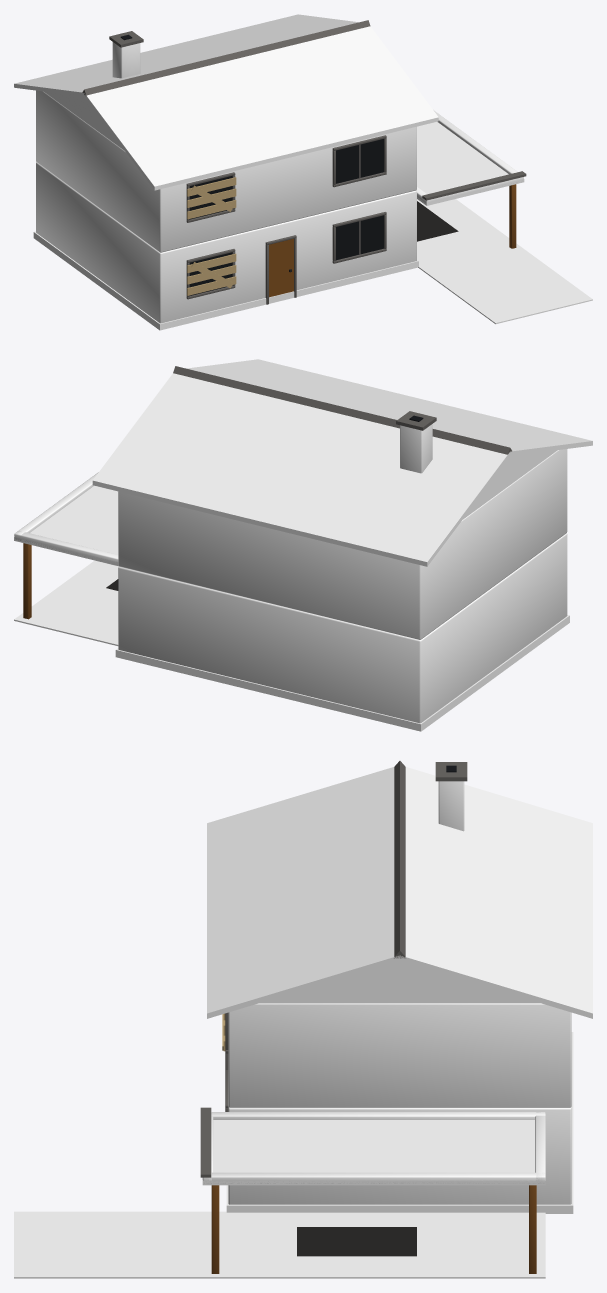
File: bld_ranch_carport_2s.glb
3 views of the same model, one above another, from view 1: azimuth 30°, elevation 25°; view 2: azimuth 150°, elevation 25°; view 3: azimuth 270°, elevation 25° (orthographic). The views are drawn at different scales.
Visible parts, largest first — view 1: rc_roof_front, rc_walls_s2, rc_walls, rc_slab, rc_roof_back, rc_port_deck, rc_footing, rc_roof_cap, rc_win1, rc_win1_s2, rc_door, rc_roof_gable (+7 smaller); view 2: rc_roof_back, rc_walls, rc_walls_s2, rc_roof_front, rc_slab, rc_port_deck, rc_footing, rc_roof_cap, rc_roof_gable, rc_chim, rc_port_parapet.001, rc_port_parapet.003 (+1 smaller); view 3: rc_roof_front, rc_walls_s2, rc_roof_back, rc_slab, rc_port_deck, rc_walls, rc_roof_gable, rc_footing, rc_oil, rc_port_parapet.003, rc_port_parapet.002, rc_roof_cap (+5 smaller).
Boxes of the visible parts, x1,y1,x2,y2 form: rc_roof_front: (84,26,438,190); rc_walls_s2: (36,90,416,252); rc_walls: (36,162,416,323); rc_slab: (417,199,592,324); rc_roof_back: (14,14,358,96); rc_port_deck: (417,122,524,205); rc_footing: (33,231,418,330); rc_roof_cap: (82,20,370,96); rc_win1: (336,215,383,260); rc_win1_s2: (336,139,383,183); rc_door: (269,239,293,297); rc_roof_gable: (44,91,124,150); rc_roof_back: (92,373,510,566); rc_walls: (118,533,567,723); rc_walls_s2: (118,449,567,639); rc_roof_front: (187,359,592,456); rc_slab: (14,560,118,645); rc_port_deck: (14,485,118,566); rc_footing: (115,615,569,731); rc_roof_cap: (173,366,511,454); rc_roof_gable: (463,450,557,519); rc_chim: (400,424,432,473); rc_port_parapet.001: (14,531,118,564); rc_port_parapet.003: (15,472,98,539); rc_roof_front: (207,767,399,1018); rc_walls_s2: (228,1003,571,1107); rc_roof_back: (400,767,592,1018); rc_slab: (14,1211,545,1278); rc_port_deck: (202,1120,545,1185); rc_walls: (228,1106,571,1204); rc_roof_gable: (259,961,540,1003); rc_footing: (226,1032,573,1213); rc_oil: (297,1227,416,1256); rc_port_parapet.003: (204,1172,544,1183); rc_port_parapet.002: (211,1112,545,1119); rc_roof_cap: (394,761,405,958).
Bounding box in the file's own units: 13.65 × 7.83 × 13.5.
